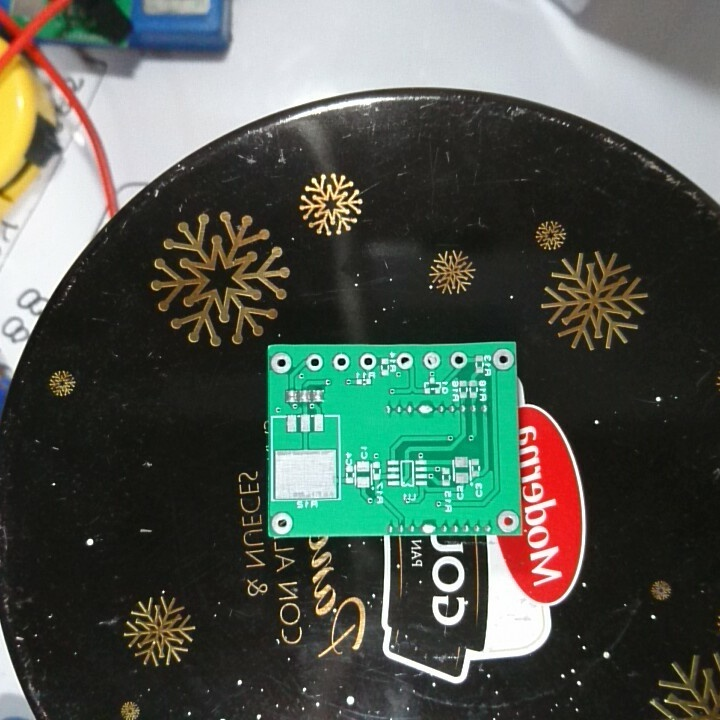F: (488, 347, 518, 375), (270, 509, 296, 537), (495, 509, 522, 534), (270, 351, 295, 375), (358, 351, 381, 372), (421, 348, 442, 371), (305, 352, 326, 373), (330, 352, 352, 372), (394, 351, 414, 371), (449, 350, 470, 369)
P: (416, 401, 436, 418), (420, 520, 438, 536)
